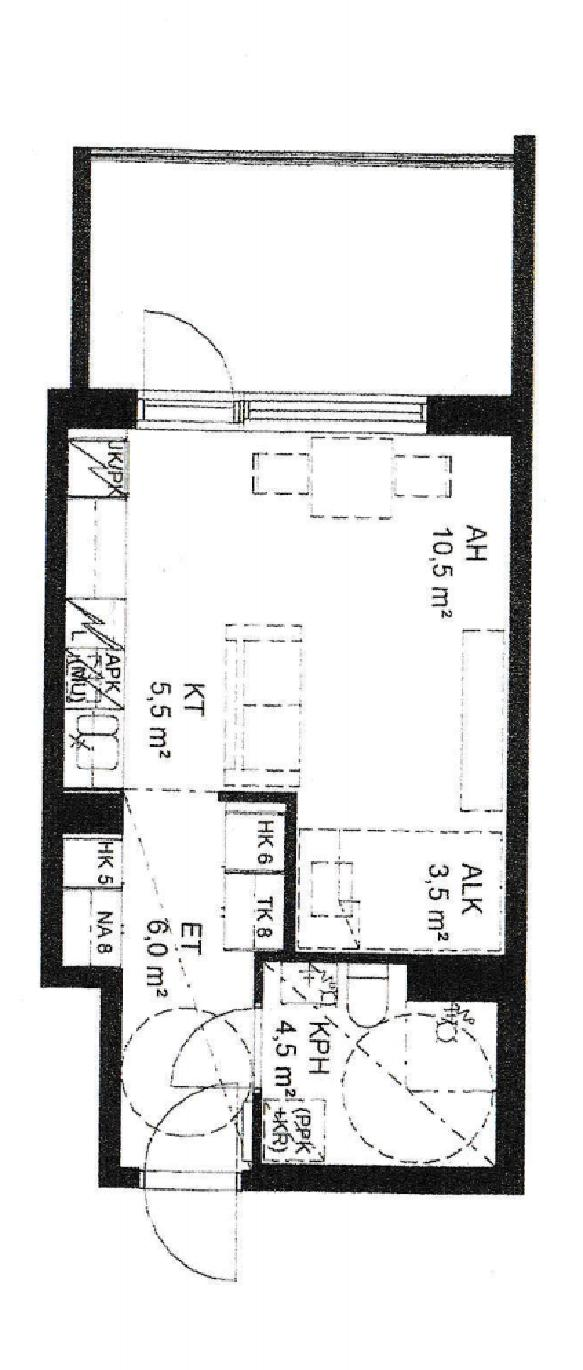door: (140, 1073, 258, 1294), (158, 989, 269, 1101), (143, 291, 229, 389)
window: (240, 395, 430, 433), (140, 395, 235, 430)
zone: (60, 431, 512, 957), (93, 159, 515, 399), (260, 960, 495, 1163), (60, 798, 286, 963), (116, 953, 256, 1169)
